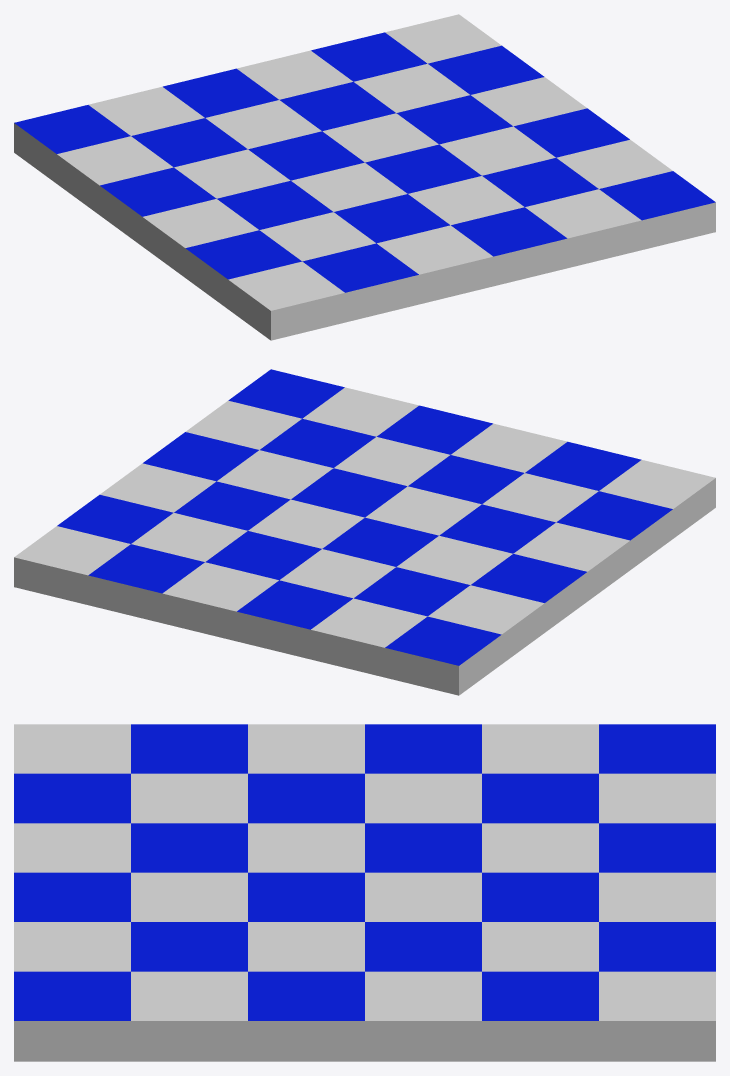
The model's file is vent.fbx.
The picture shows the model from 3 angles, top to bottom: view 1: azimuth 30°, elevation 25°; view 2: azimuth 150°, elevation 25°; view 3: azimuth 270°, elevation 25°; orthographic projection. The views are drawn at different scales.
Parts seen in each view (by area): view 1: Cube; view 2: Cube; view 3: Cube.
Boxes of the visible parts, bbox=[...] form: Cube: bbox=[14, 14, 715, 340]; Cube: bbox=[14, 369, 715, 695]; Cube: bbox=[14, 724, 715, 1061].
Size of the model in its own units: 200 by 12.79 by 200.
